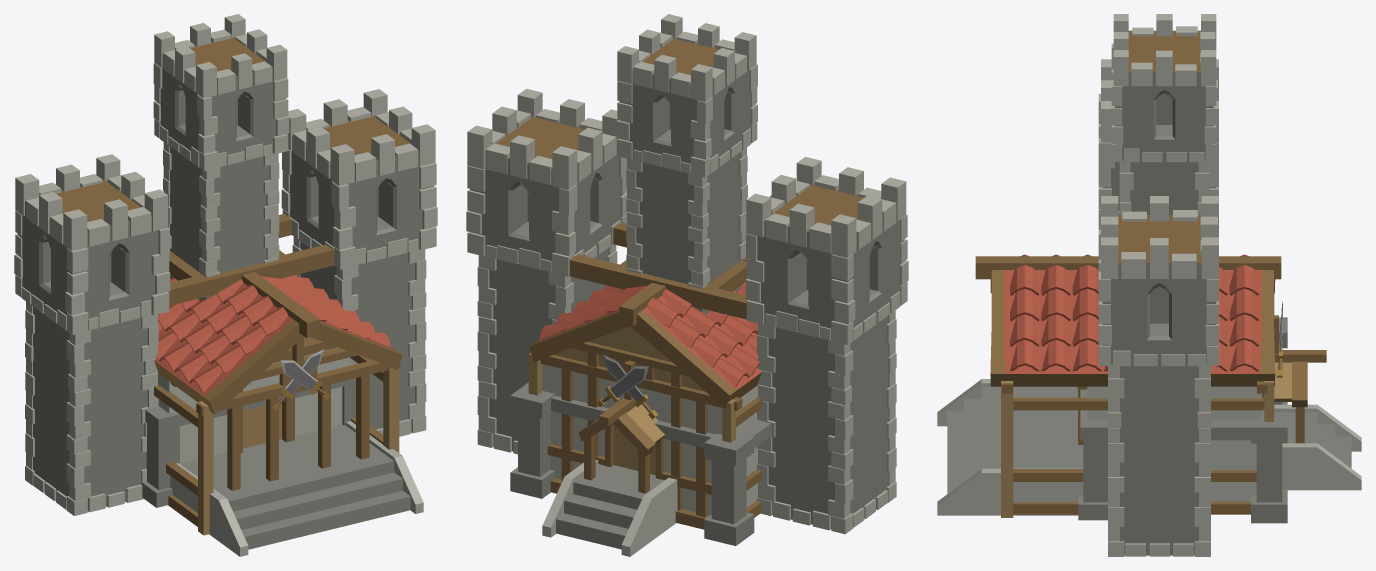
File: Barracks-UXCOwRBSxx.glb
3 views of the same model, side by side, from view 1: azimuth 30°, elevation 25°; view 2: azimuth 150°, elevation 25°; view 3: azimuth 270°, elevation 25° (orthographic). The views are drawn at different scales.
Visible parts, largest first — view 1: Barracks_SecondAge_Level3; view 2: Barracks_SecondAge_Level3; view 3: Barracks_SecondAge_Level3.
Boxes of the visible parts, x1,y1,x2,y2 form: Barracks_SecondAge_Level3: (14, 14, 437, 556); Barracks_SecondAge_Level3: (466, 14, 908, 556); Barracks_SecondAge_Level3: (937, 14, 1361, 556).
Bounding box in the file's own units: 1.71 × 1.85 × 1.64.
